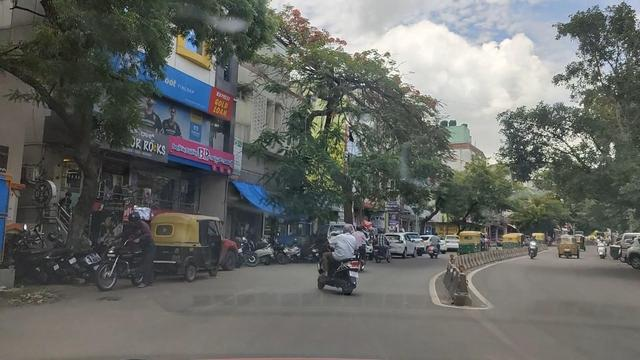LMV: (157, 209, 222, 291), (102, 222, 162, 281), (321, 226, 364, 301)
RoadDamages: (95, 286, 131, 309)
